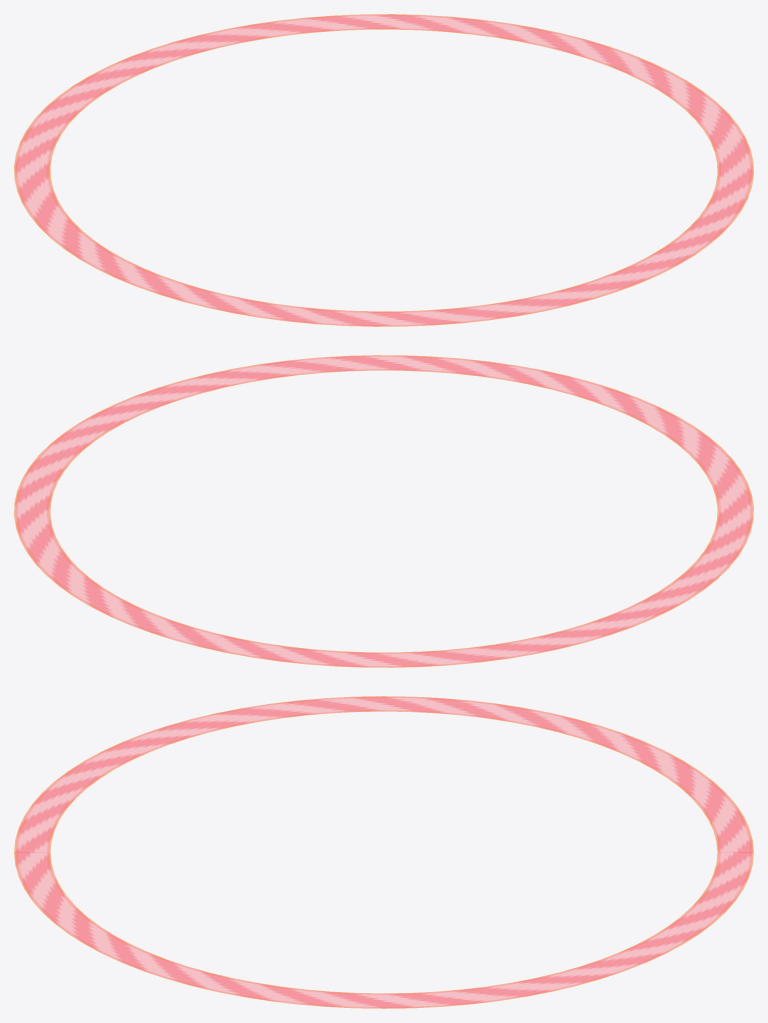
The model's file is fx_mring4_warn.glb.
3 views of the same model, one above another, from view 1: azimuth 30°, elevation 25°; view 2: azimuth 150°, elevation 25°; view 3: azimuth 270°, elevation 25° (orthographic).
Parts seen in each view (by area): view 1: fx_warn; view 2: fx_warn; view 3: fx_warn.
Boxes of the visible parts, x1,y1,x2,y2 form: fx_warn: (14, 14, 753, 326); fx_warn: (14, 355, 753, 667); fx_warn: (14, 696, 753, 1008).
Bounding box in the file's own units: 40.4 × 0 × 40.4.
1 material, 1 textured.
